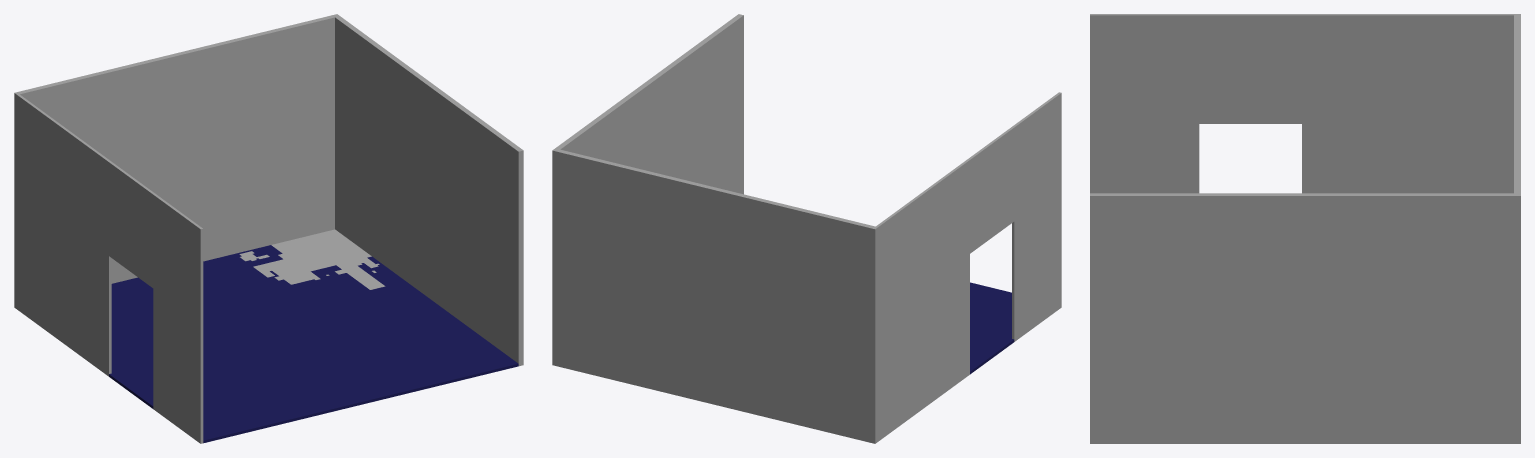
Rendered from 4x2 third (des)-4.obj.
3 views of the same model, side by side, from view 1: azimuth 30°, elevation 25°; view 2: azimuth 150°, elevation 25°; view 3: azimuth 270°, elevation 25° (orthographic). The views are drawn at different scales.
Parts seen in each view (by area): view 1: 4x2 third (des)-4; view 2: 4x2 third (des)-4; view 3: 4x2 third (des)-4.
Part boxes in pixels (left/top/right/bottom): 4x2 third (des)-4: left=14, top=14, right=523, bottom=443; 4x2 third (des)-4: left=552, top=14, right=1061, bottom=443; 4x2 third (des)-4: left=1090, top=14, right=1520, bottom=443.
Bounding box in the file's own units: 126 × 80 × 126.
Materials: 1 (1 with a texture image).
